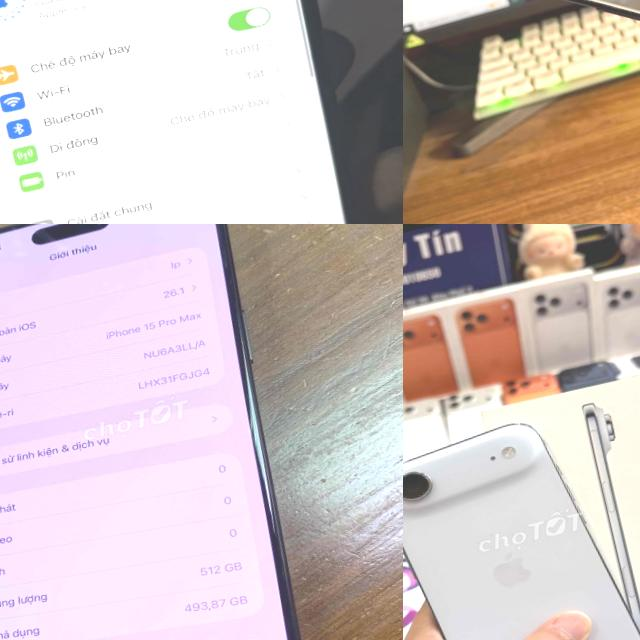gen_11: (0, 0, 388, 224), (469, 0, 640, 131)
gen_15: (0, 224, 338, 640)
gen_17: (403, 392, 640, 640)
